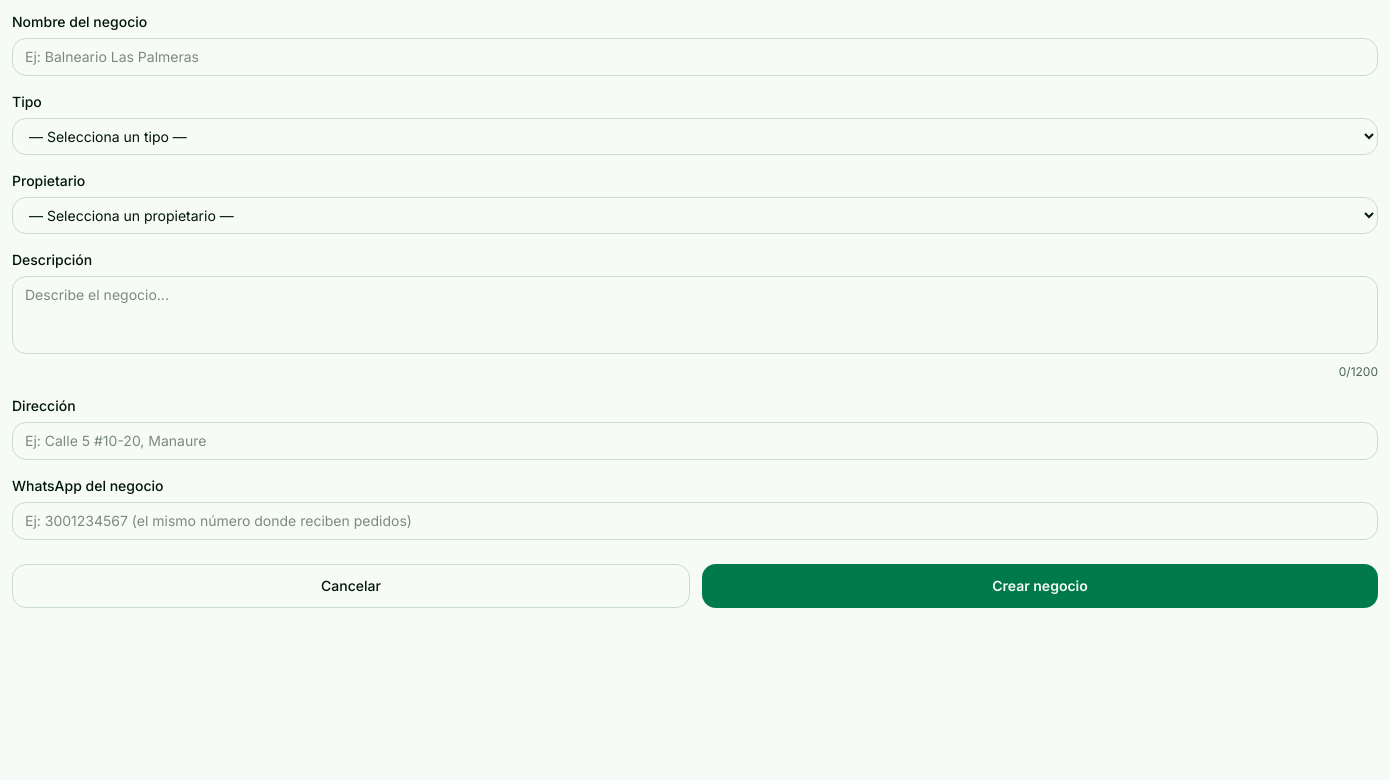
Test case: AdminBusinessForm › disables the submit button and shows the pending label while the action is in flight
The image size is (1390, 780).
Type "Finca X" into the field labelled "Nombre del negocio". click: (695, 57)
box: [12,38,1378,76]
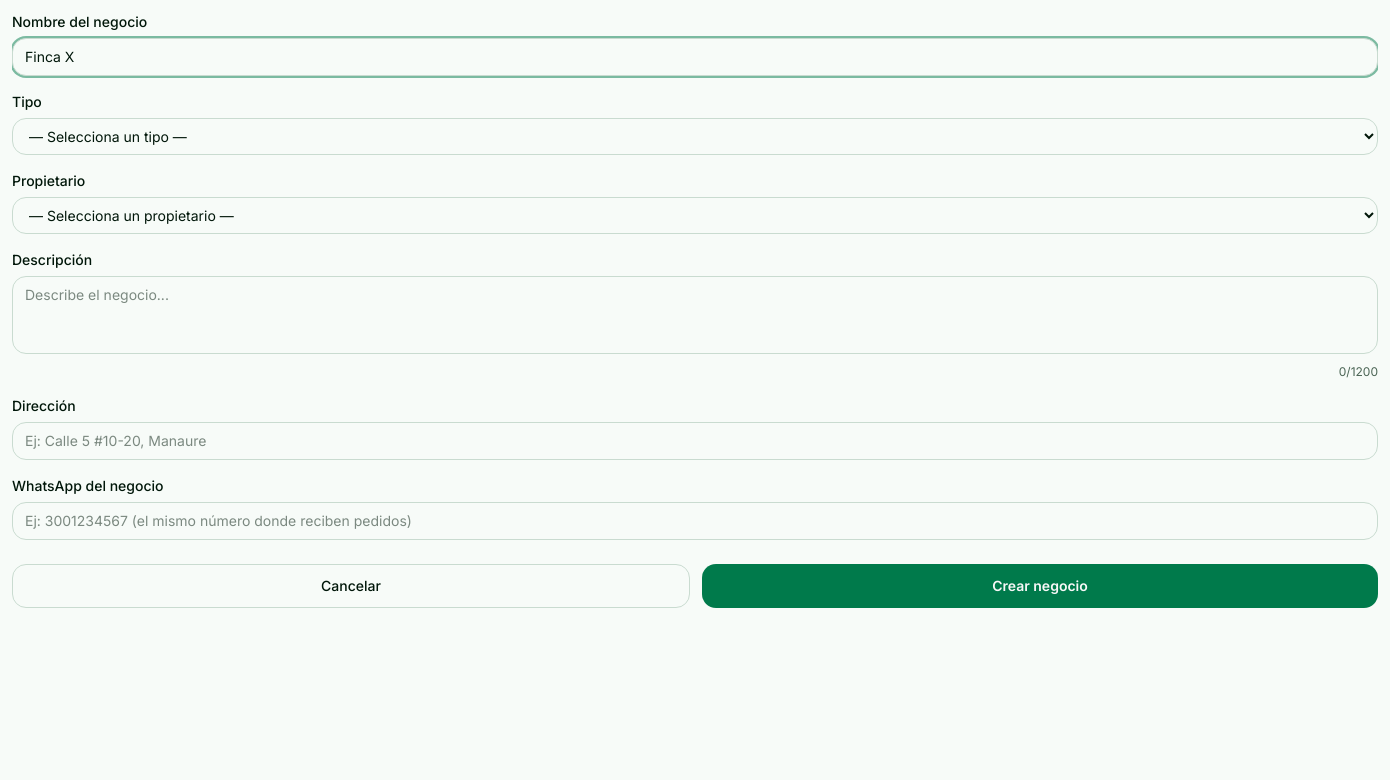
Select "Finca" in the dropdown labelled "Tipo". click: (695, 136)
box: [12,118,1378,155]
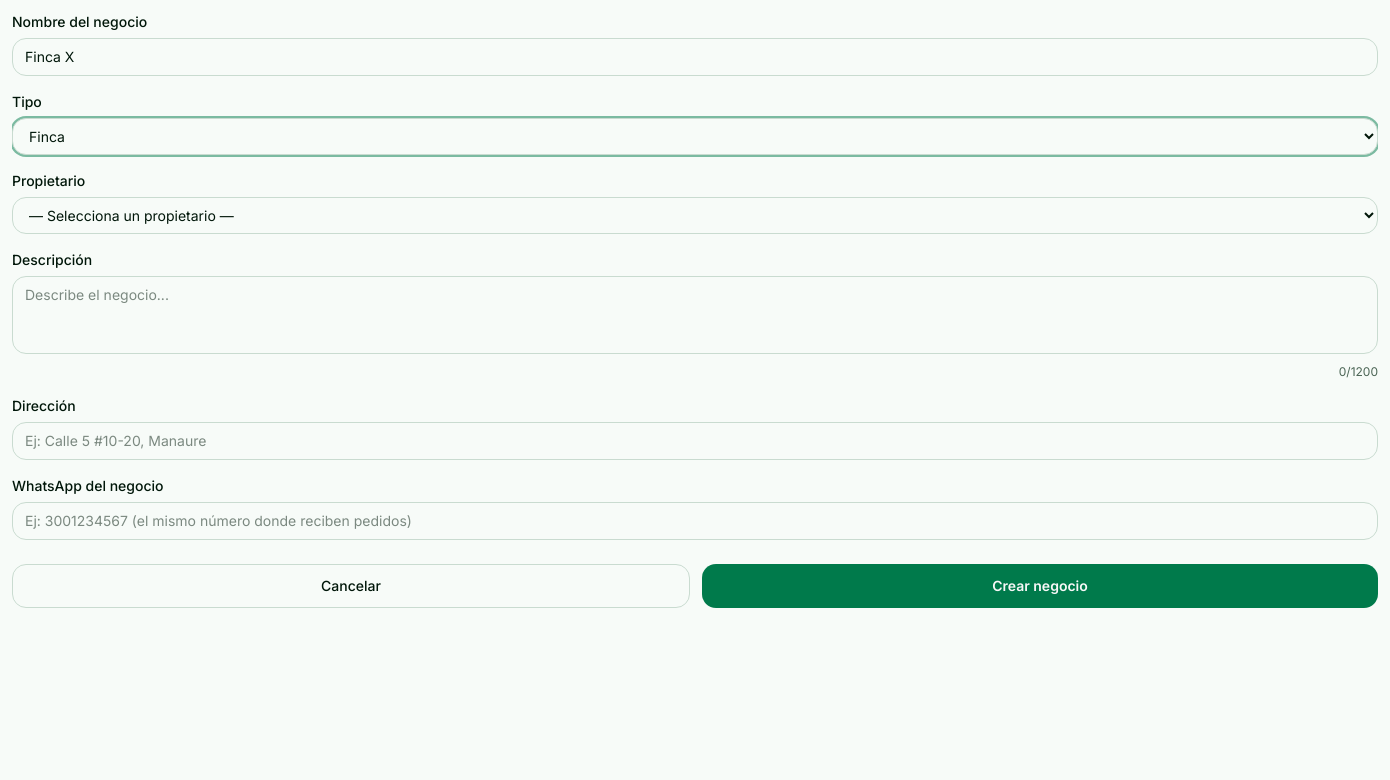
Select "Ana Pérez" in the dropdown labelled "Propietario". click: (695, 216)
box: [12,197,1378,234]
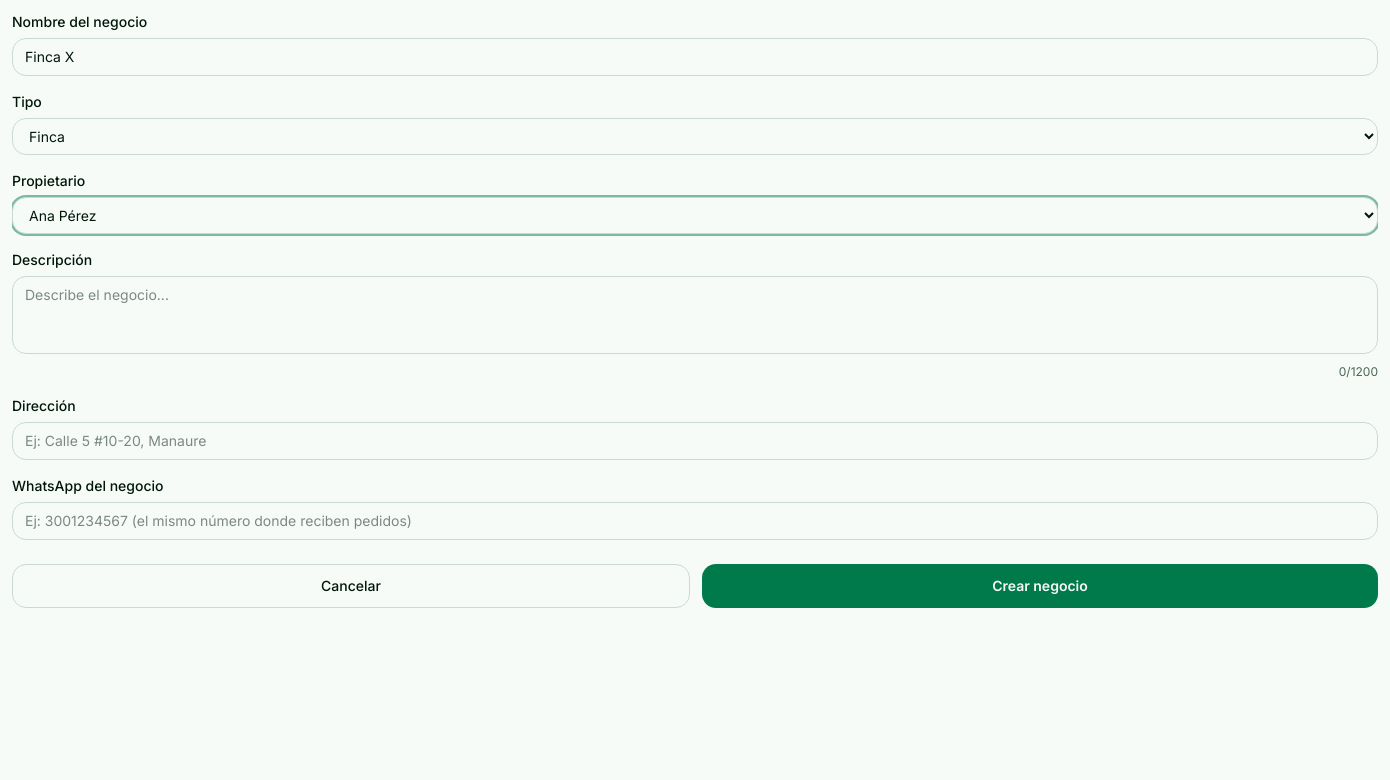
Click the button "Crear negocio". click: click(1040, 586)
box: [702,564,1378,608]
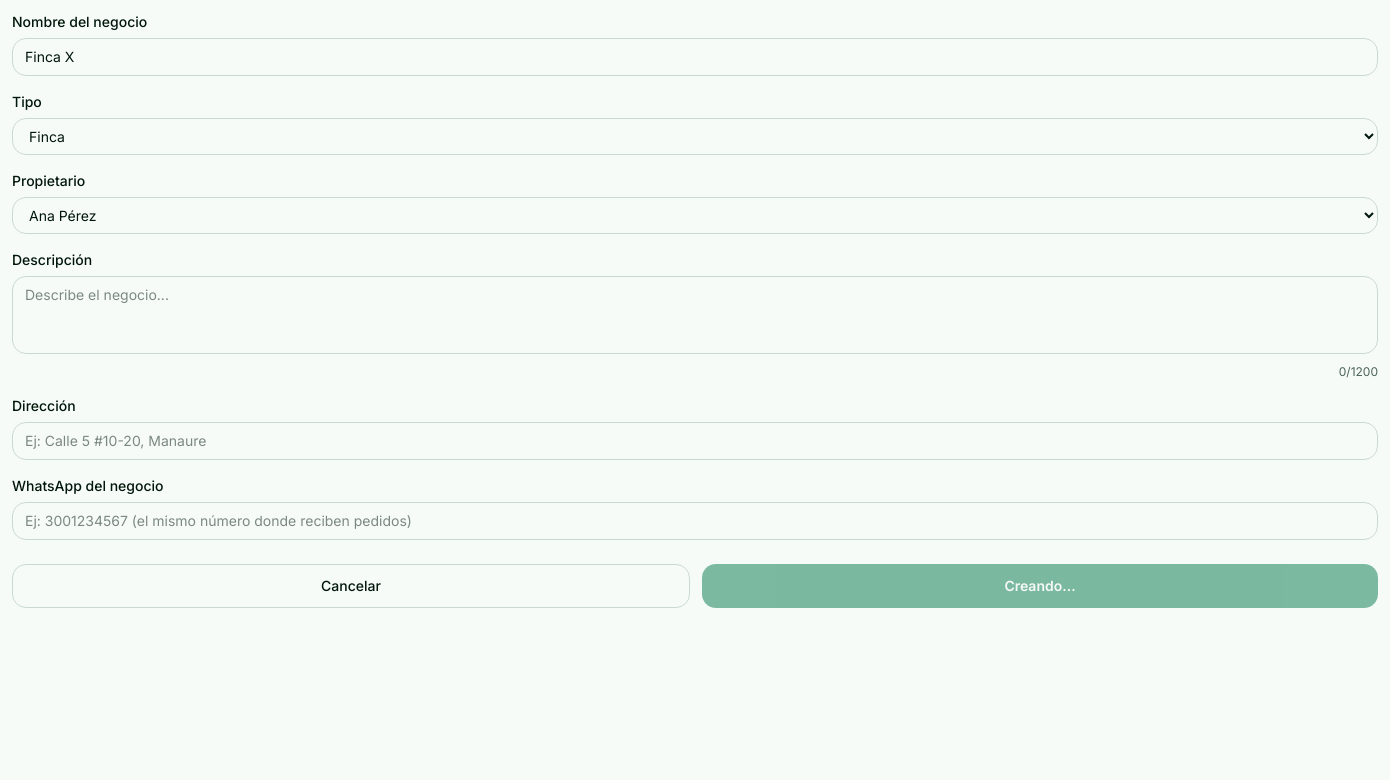
expect the button "Creando..." is disabled: met, box [702,564,1378,608]
